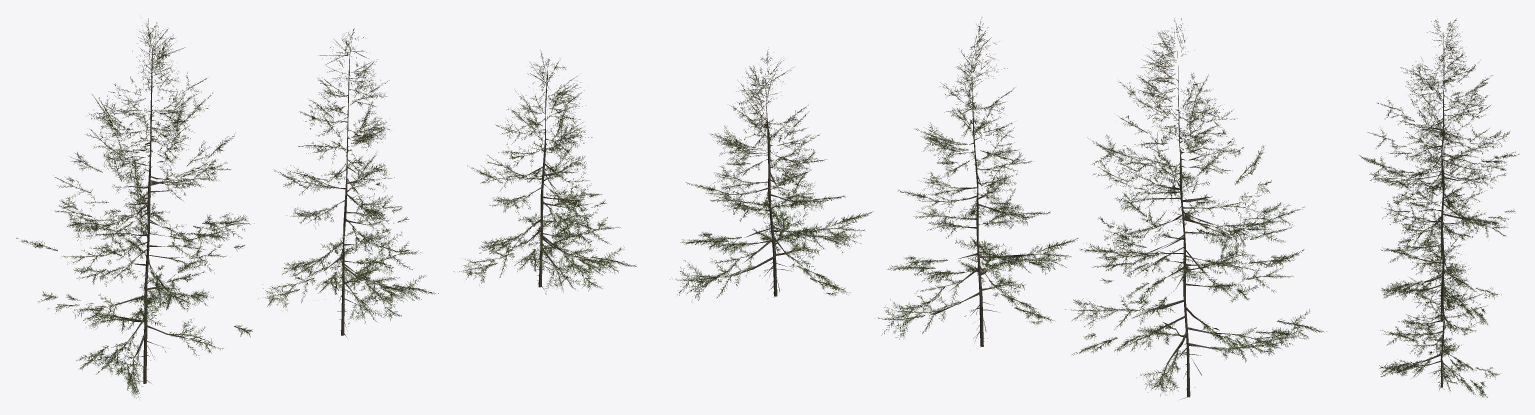
File: fir_sapling_medium_lod.glb
The picture shows the model from 3 angles, left to right: view 1: azimuth 30°, elevation 25°; view 2: azimuth 150°, elevation 25°; view 3: azimuth 270°, elevation 25°; orthographic projection. The views are drawn at different scales.
Visible parts, largest first — view 1: fir_sapling_medium_a_LOD0, fir_sapling_medium_b_LOD0, fir_sapling_medium_c_LOD0; view 2: fir_sapling_medium_a_LOD0, fir_sapling_medium_b_LOD0, fir_sapling_medium_c_LOD0; view 3: fir_sapling_medium_a_LOD0, fir_sapling_medium_b_LOD0, fir_sapling_medium_c_LOD0.
Part boxes in pixels (bbox=[...]): fir_sapling_medium_a_LOD0: bbox=[16, 18, 254, 398]; fir_sapling_medium_b_LOD0: bbox=[258, 28, 438, 336]; fir_sapling_medium_c_LOD0: bbox=[454, 50, 636, 294]; fir_sapling_medium_a_LOD0: bbox=[1065, 18, 1326, 399]; fir_sapling_medium_b_LOD0: bbox=[878, 17, 1077, 346]; fir_sapling_medium_c_LOD0: bbox=[675, 49, 873, 301]; fir_sapling_medium_a_LOD0: bbox=[1359, 18, 1519, 255]; fir_sapling_medium_b_LOD0: bbox=[1381, 111, 1497, 324]; fir_sapling_medium_c_LOD0: bbox=[1379, 231, 1499, 397].
Bounding box in the file's own units: 14.74 × 8.78 × 5.25.
3 materials, 3 textured.
